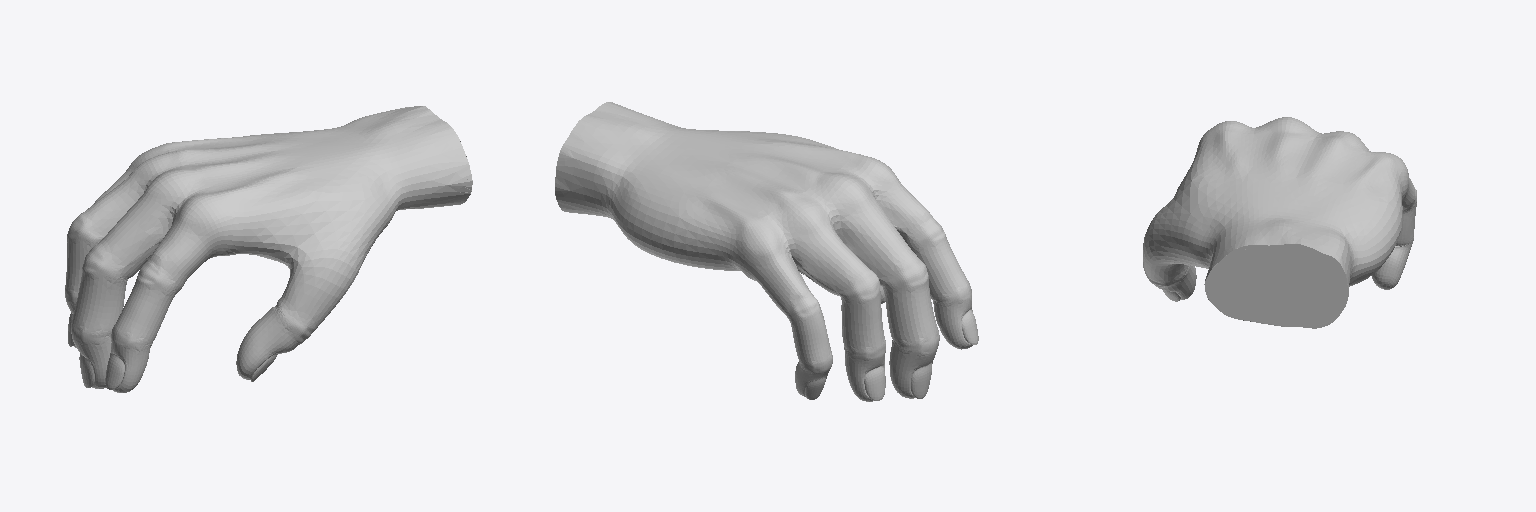
File: GrabHand.obj
3 views of the same model, side by side, from view 1: azimuth 30°, elevation 25°; view 2: azimuth 150°, elevation 25°; view 3: azimuth 270°, elevation 25° (orthographic).
Parts seen in each view (by area): view 1: Hand_Hold; view 2: Hand_Hold; view 3: Hand_Hold.
Part boxes in pixels (x1,y1,x2,y2): Hand_Hold: (65,106,472,392); Hand_Hold: (555,102,978,401); Hand_Hold: (1143,117,1416,328).
Size of the model in its own units: 21.12 by 11.21 by 14.03.